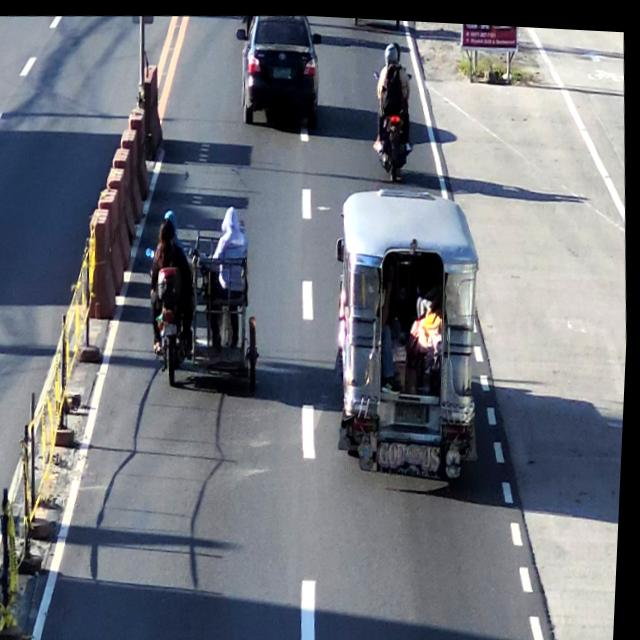Car: (239, 10, 321, 130)
License-Plate: (397, 392, 434, 424), (272, 62, 295, 79)
Motorcycle: (331, 174, 497, 492), (366, 38, 423, 182)
Tricycle: (148, 199, 276, 394)
